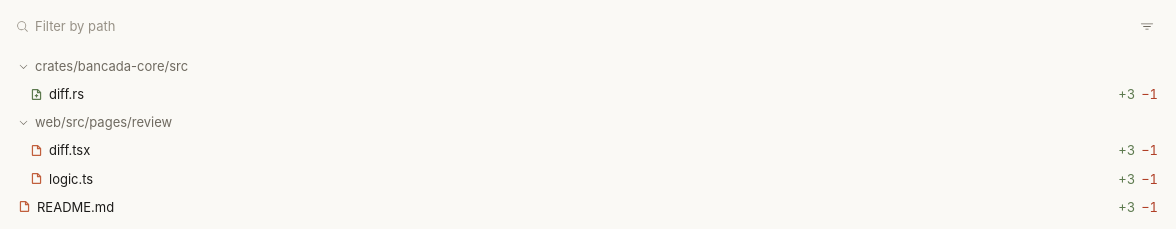
ChangedFiles › opens every directory, and closing one hides what is under it
Click the button "web/src/pages/review".
click(104, 122)  # box [12,108,1164,136]
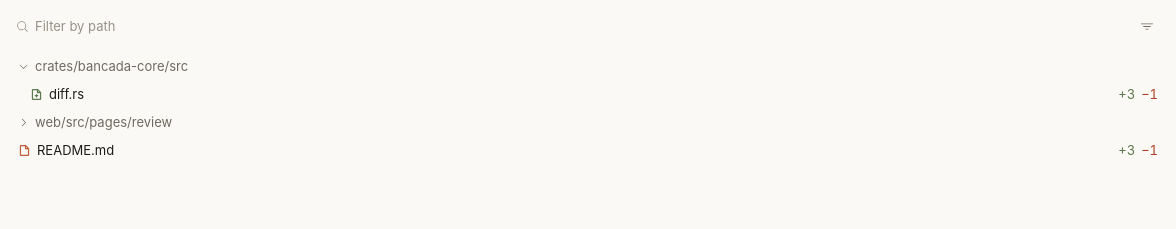
Expected: the text "README.md" is shown, [37,140,114,160]
Expected: the button "diff.tsx" is gone
